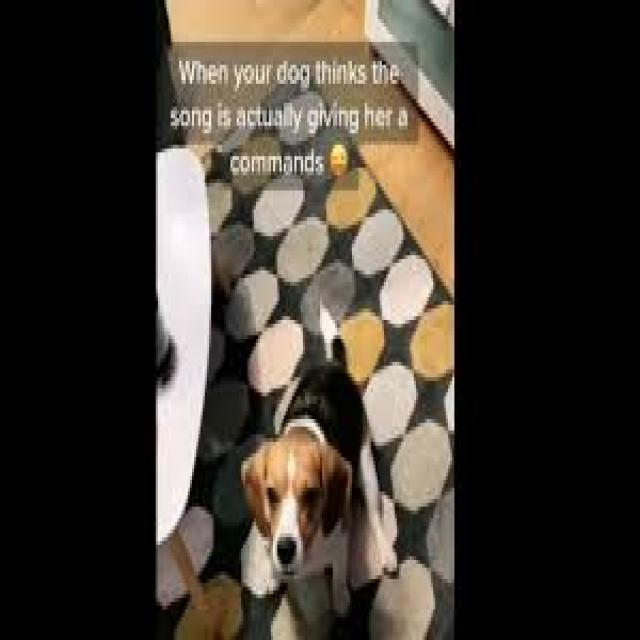Dog: (240, 298, 402, 622)
